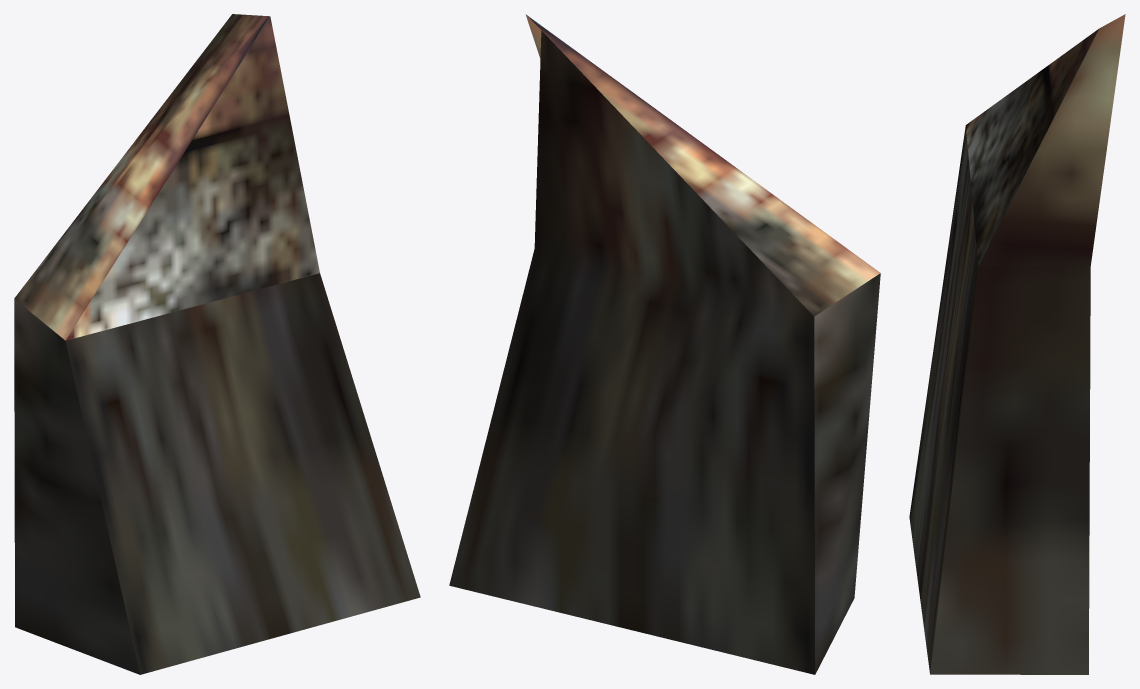
The model's file is USA - Base Infrastructure - Power Plant - Damage State 16 - ABPWRPLANT_d16.glb.
The picture shows the model from 3 angles, left to right: view 1: azimuth 30°, elevation 25°; view 2: azimuth 150°, elevation 25°; view 3: azimuth 270°, elevation 25°; orthographic projection. The views are drawn at different scales.
Parts seen in each view (by area): view 1: ABPWRPLANT_D16; view 2: ABPWRPLANT_D16; view 3: ABPWRPLANT_D16.
Part boxes in pixels (x1,y1,x2,y2): ABPWRPLANT_D16: [14, 14, 420, 674]; ABPWRPLANT_D16: [449, 14, 880, 674]; ABPWRPLANT_D16: [909, 14, 1125, 674].
Size of the model in its own units: 9.55 by 14.65 by 4.73.
Materials: 1 (1 with a texture image).
